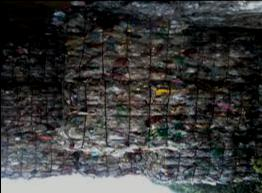Plastic: (147, 79, 259, 147), (149, 11, 257, 80), (61, 7, 150, 81), (58, 83, 150, 153), (143, 147, 259, 183), (1, 81, 64, 145), (1, 29, 65, 83), (1, 144, 82, 183), (76, 147, 138, 178)
